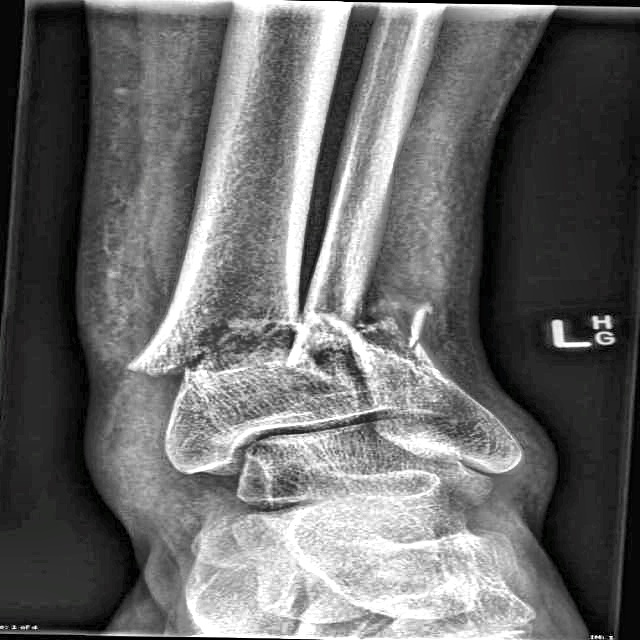Comminuted: (113, 305, 315, 375), (312, 282, 431, 364)
